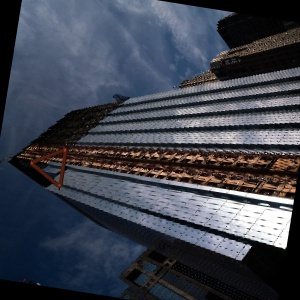triangle: (29, 145, 69, 192)
